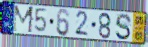2: (74, 10, 90, 39)
5: (34, 8, 48, 35)
6: (55, 7, 71, 38)
8: (98, 12, 112, 40)
M: (12, 5, 35, 35)
S: (115, 13, 133, 42)
